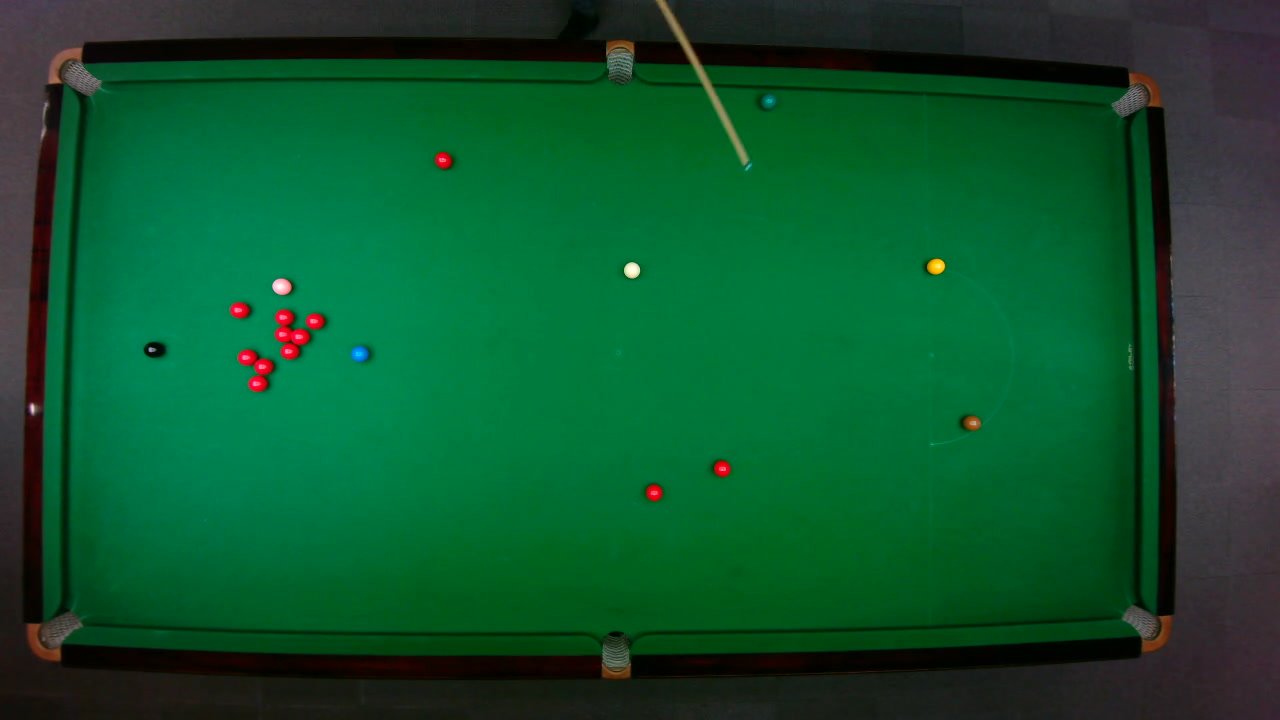bag: (24, 609, 83, 661), (46, 46, 102, 96), (1119, 603, 1172, 652), (1108, 71, 1161, 117), (600, 629, 629, 680), (605, 38, 633, 85)
black: (142, 340, 163, 357)
blue: (350, 344, 369, 362)
brown: (961, 414, 981, 430)
cue: (657, 0, 755, 173)
green: (759, 92, 776, 109)
pink: (270, 276, 292, 295)
red: (235, 347, 258, 366), (287, 326, 310, 345), (252, 356, 274, 375), (273, 307, 294, 326), (228, 300, 250, 318), (246, 374, 268, 392), (433, 150, 453, 169), (303, 311, 324, 329), (644, 482, 663, 501), (712, 458, 731, 477), (279, 342, 300, 359), (273, 325, 293, 342)
white: (622, 260, 641, 279)
yellow: (925, 257, 945, 274)
zone: (927, 263, 1013, 445)
